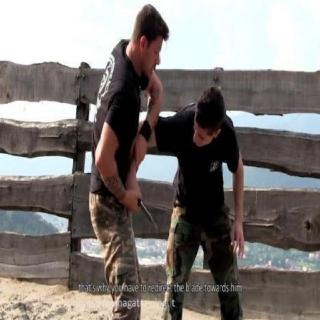knife: (129, 188, 161, 235)
